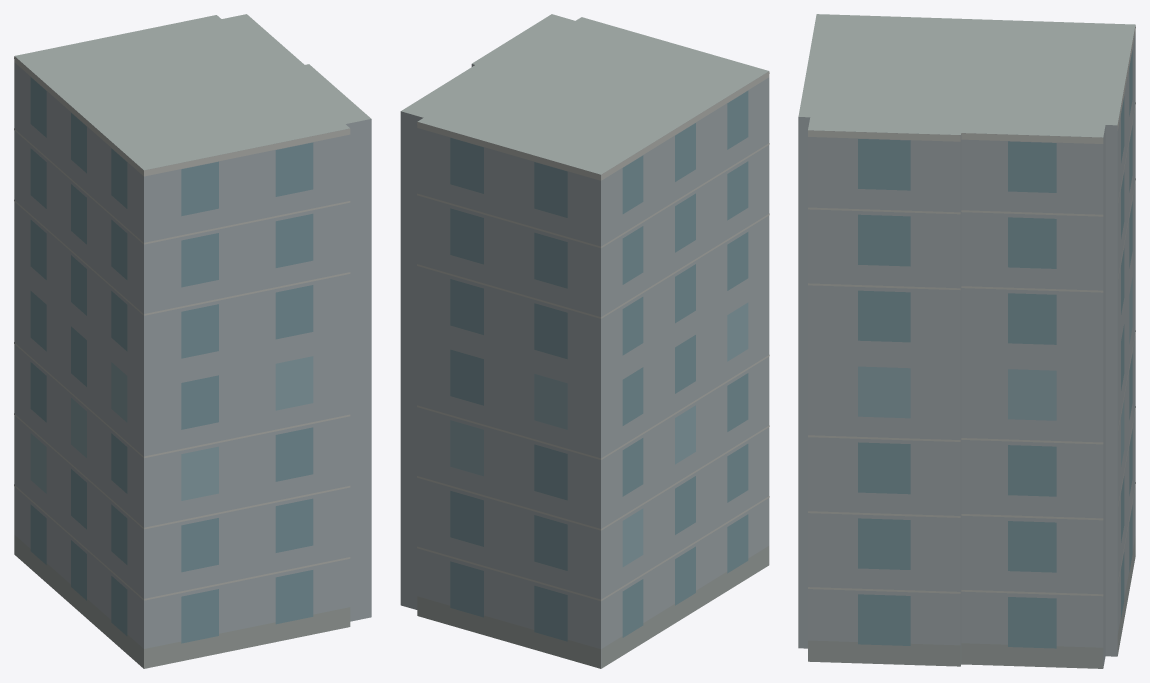
Rendered from survey-upis-32760565.glb.
The picture shows the model from 3 angles, left to right: view 1: azimuth 30°, elevation 25°; view 2: azimuth 150°, elevation 25°; view 3: azimuth 270°, elevation 25°; orthographic projection. The views are drawn at different scales.
Visible parts, largest first — view 1: survey-upis-32760565.tmp; view 2: survey-upis-32760565.tmp; view 3: survey-upis-32760565.tmp.
Boxes of the visible parts, x1,y1,x2,y2 form: survey-upis-32760565.tmp: (14,14,371,668); survey-upis-32760565.tmp: (400,14,769,668); survey-upis-32760565.tmp: (798,14,1135,668).
Size of the model in its own units: 9.79 by 19.6 by 11.3.
